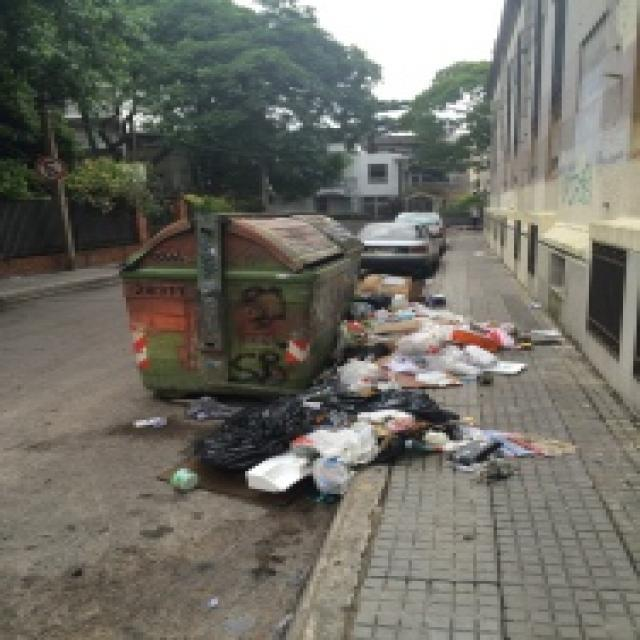Trashbag: (173, 401, 294, 465)
